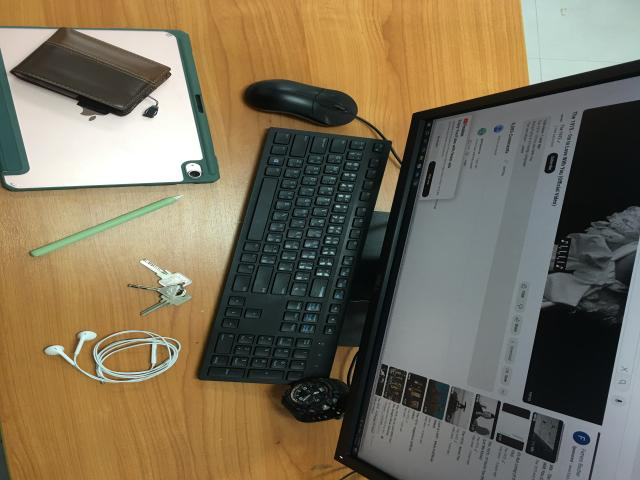Keys: (129, 261, 192, 316)
Mouse: (242, 80, 359, 127)
Wallet: (6, 28, 173, 119)
Watch: (281, 377, 351, 425)
wire: (47, 332, 180, 385)
